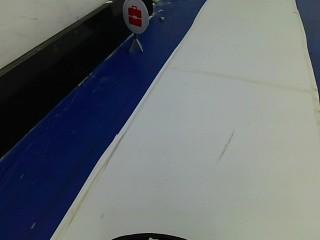company: (113, 0, 152, 34)
